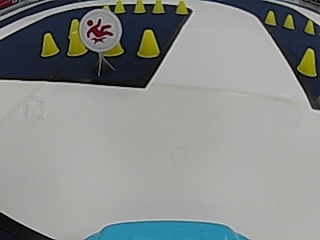cone: (137, 28, 160, 59), (297, 47, 316, 78), (40, 32, 58, 57), (67, 33, 86, 56), (264, 9, 276, 26), (152, 0, 165, 14), (133, 0, 146, 14), (113, 0, 126, 14), (175, 0, 187, 15), (303, 19, 314, 35), (284, 13, 294, 29)
tumble: (83, 13, 118, 46)
